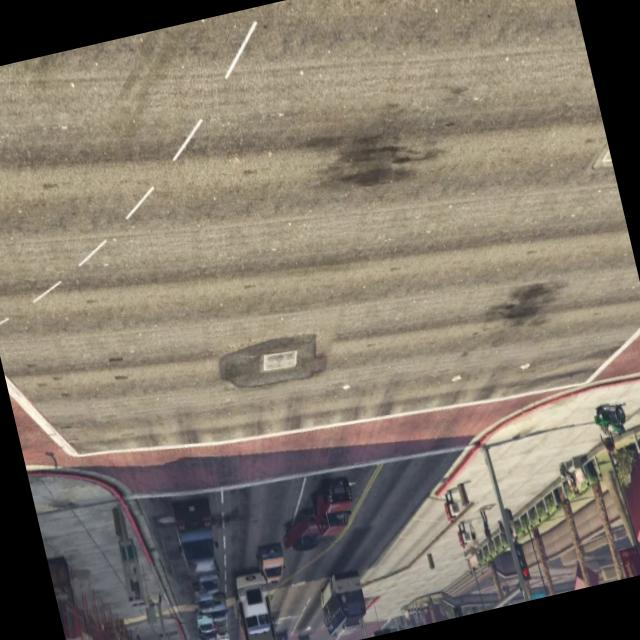Red-Signal: (508, 528, 535, 587), (364, 618, 394, 638), (446, 593, 468, 618)
